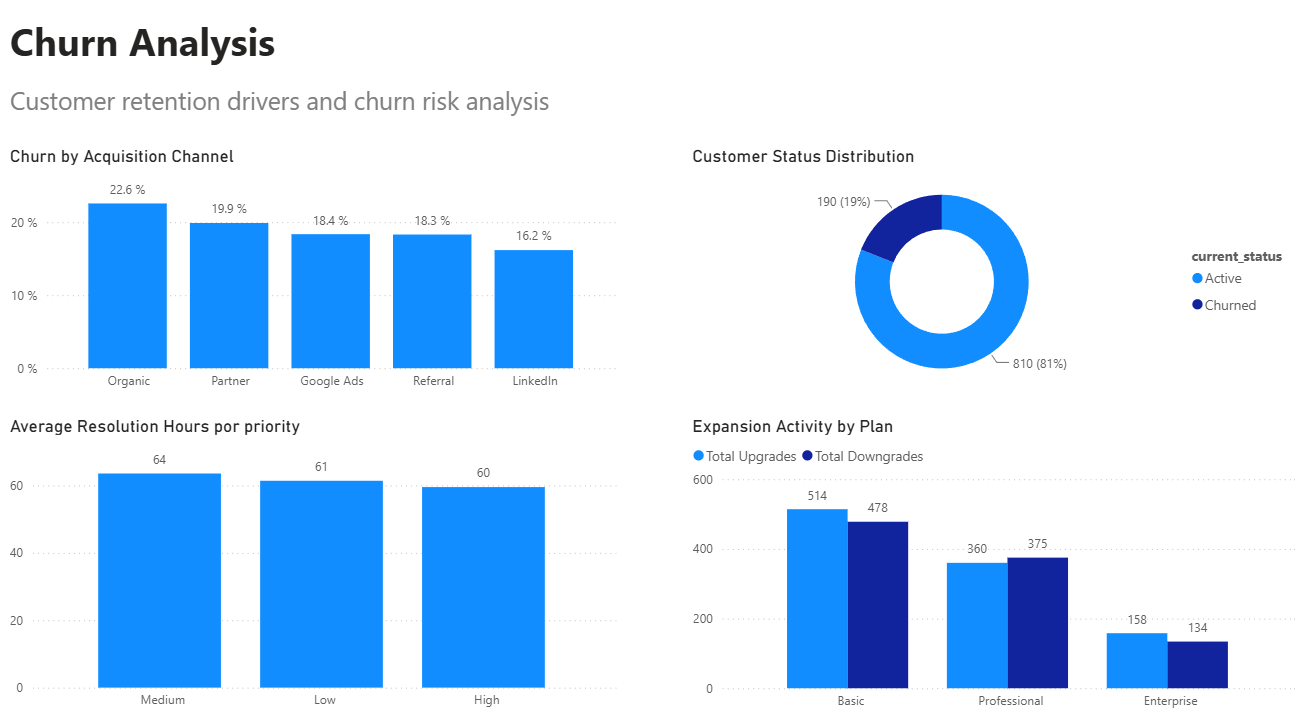

What the dashboard file says about the page in this screenshot:
{"tool":"powerbi","page":{"name":"Churn Analysis","canvas":[1280,720],"ordinal":2},"visuals":[{"type":"textbox","box":[10,15.7,365.7,67.1],"z":0},{"type":"textbox","box":[10,82.9,604.3,47.1],"z":1000},{"type":"clusteredColumnChart","title":"Churn by Acquisition Channel","fields":{"Category":["customers_clean.acquisition_channel"],"Y":["Measures (2).Channel Churn Rate"]},"box":[10,148.3,603.3,248.3],"z":2000},{"type":"columnChart","fields":{"Category":["support_tickets_clean.priority"],"Y":["Measures (2).Average Resolution Hours"]},"box":[10,411.7,603.3,296.7],"z":3000},{"type":"clusteredColumnChart","title":"Expansion Activity by Plan","fields":{"Category":["subscriptions_clean.subscription_plan"],"Y":["Measures (2).Total Upgrades","Measures (2).Total Downgrades"]},"box":[677,412,603,297],"z":4000},{"type":"donutChart","title":"Customer Status Distribution","fields":{"Category":["subscriptions_clean.current_status"],"Y":["Count(subscriptions_clean.customer_id)"]},"box":[677,148,603,248],"z":5000}]}

Visuals, with their boxes in screenshot pixels (x1, y1, x2, y2), scaled from the page's 1280x720 canvas onto the 1297x727 screenshot:
textbox: l=10, t=16, r=381, b=84
textbox: l=10, t=84, r=622, b=131
"Churn by Acquisition Channel" clusteredColumnChart: l=10, t=150, r=621, b=400
columnChart - support_tickets_clean.priority x Measures (2).Average Resolution Hours: l=10, t=416, r=621, b=715
"Expansion Activity by Plan" clusteredColumnChart: l=686, t=416, r=1296, b=716
"Customer Status Distribution" donutChart: l=686, t=149, r=1296, b=400
